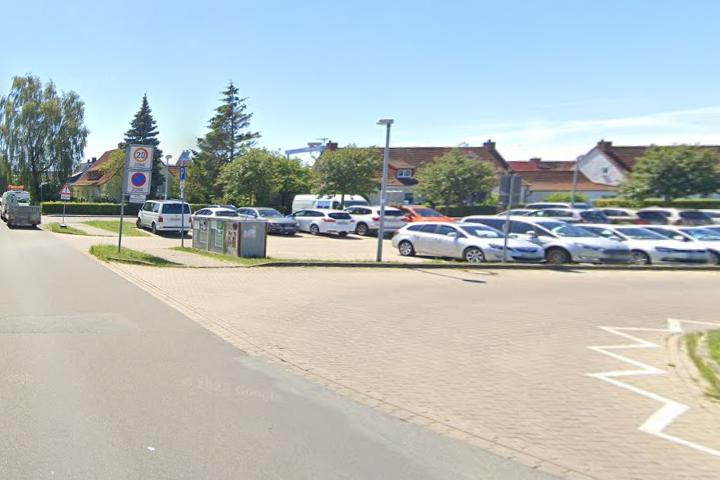traffic_sign: (133, 147, 149, 163), (131, 172, 146, 187), (60, 183, 72, 195), (179, 167, 186, 180)
vehicle: (456, 214, 636, 267), (388, 219, 548, 266), (556, 222, 709, 266), (324, 205, 409, 236), (277, 207, 359, 238), (135, 197, 195, 237)
